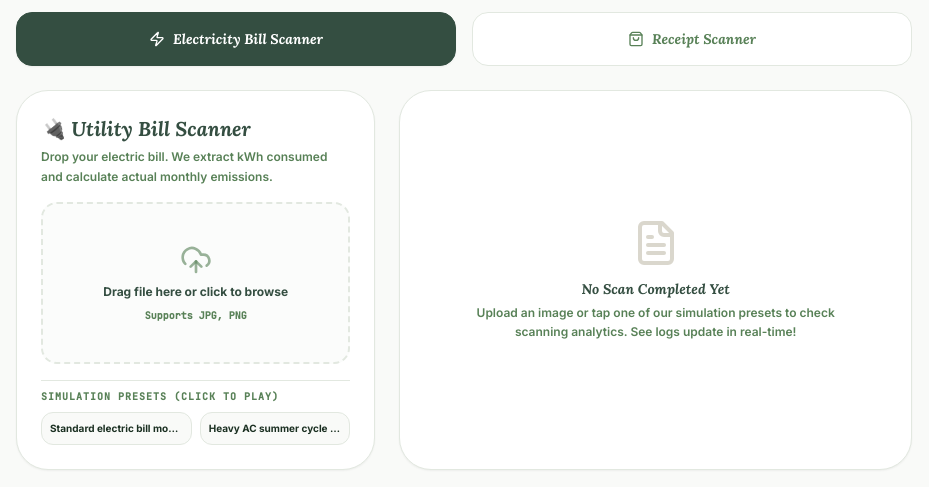
Scenario: Network & API Error handling fallback tests › handles scanning failures gracefully with stable backup OCR output
What coordinates should you click on to do the following:
click the button "Standard electric bill mockup"
I would click on:
 (116, 428)
Its box is [41,412,192,445].
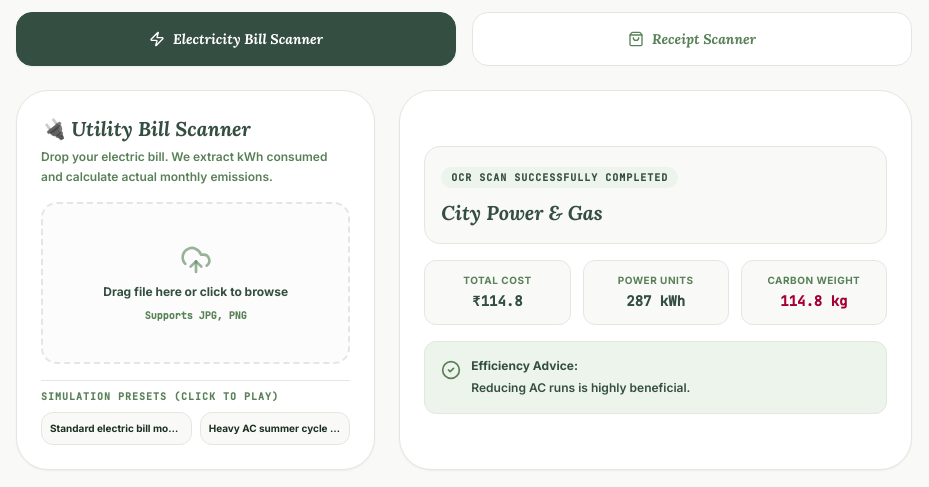
Expected: the heading "City Power & Gas" is shown, [441,200,603,225]
